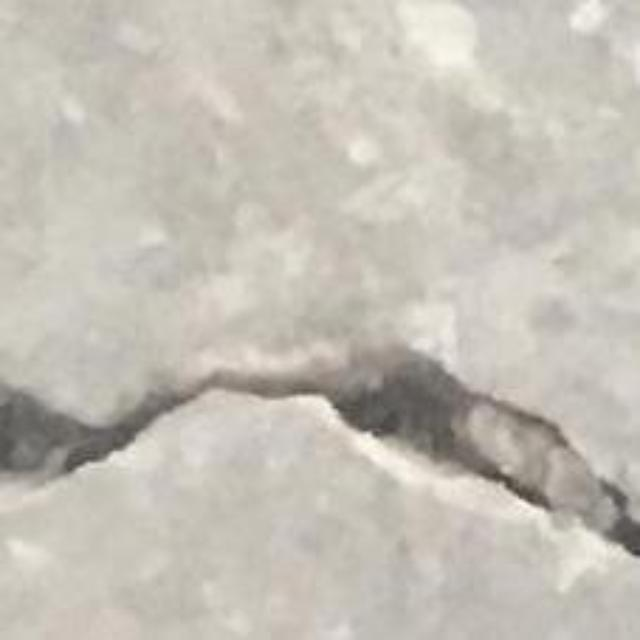crack: (0, 347, 639, 555)
